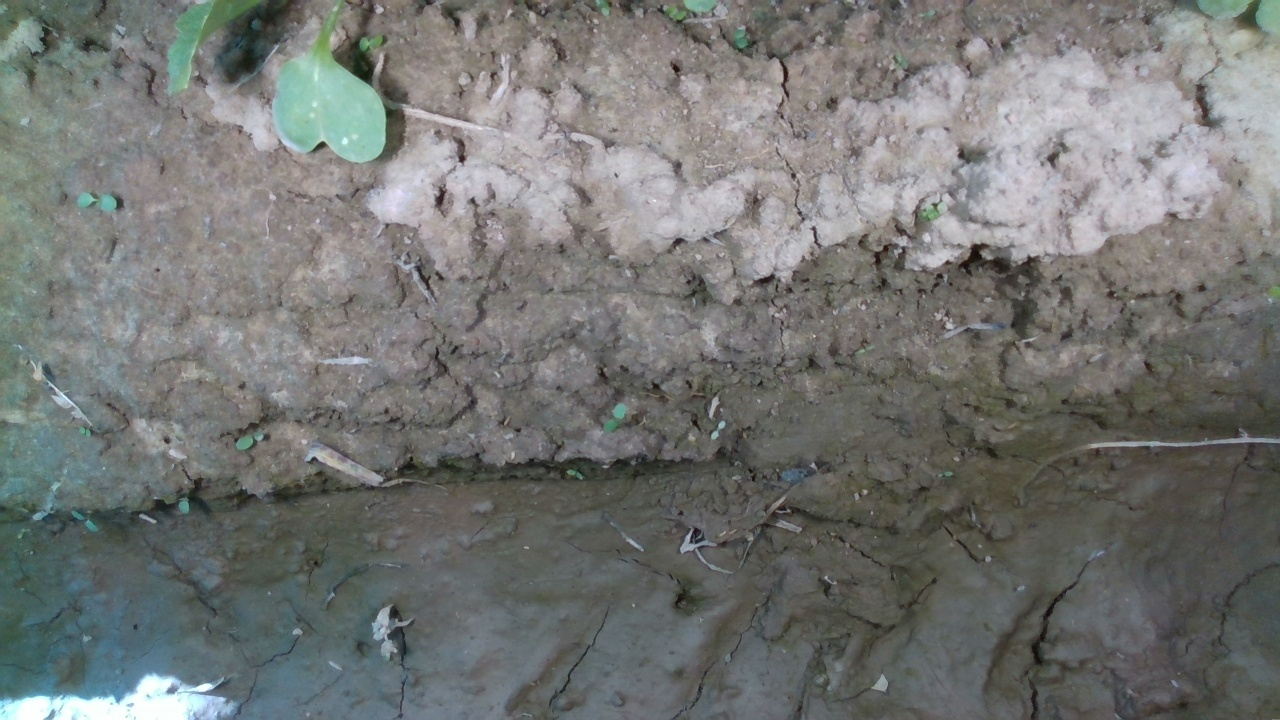weed: (230, 429, 266, 451)
